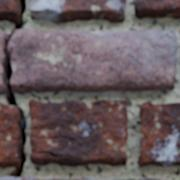brick: (29, 100, 127, 165), (138, 102, 179, 166), (29, 0, 125, 22), (0, 105, 21, 166), (135, 0, 179, 18), (0, 0, 19, 22), (0, 177, 39, 179)
broken_brick: (9, 27, 178, 93), (0, 30, 5, 59), (0, 84, 4, 95)
crack: (0, 0, 74, 178), (30, 133, 83, 146)
